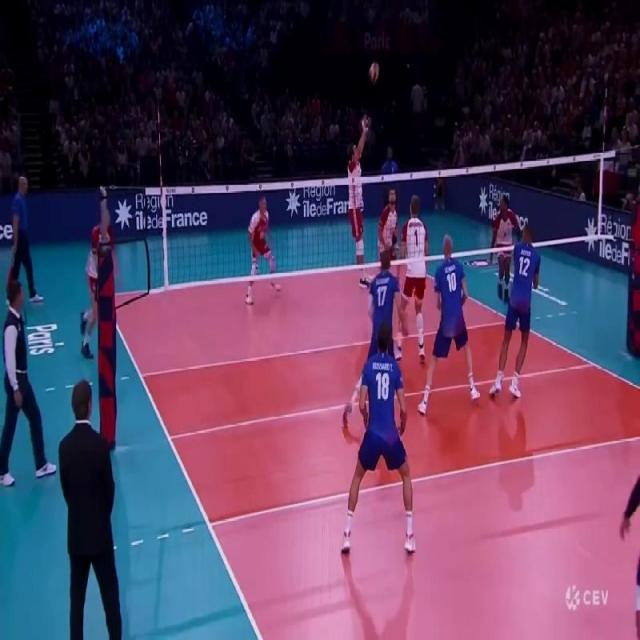volleyball: (369, 61, 379, 83)
